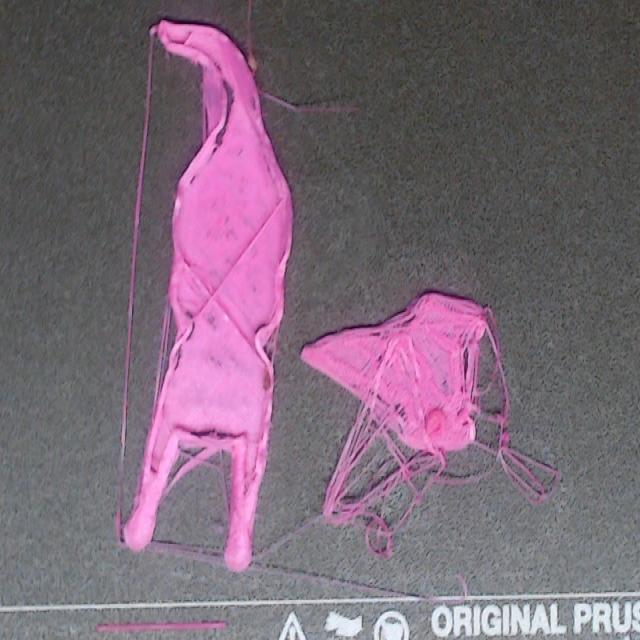mistake: (125, 20, 291, 571), (301, 291, 558, 556), (116, 20, 172, 548), (217, 71, 233, 136)
